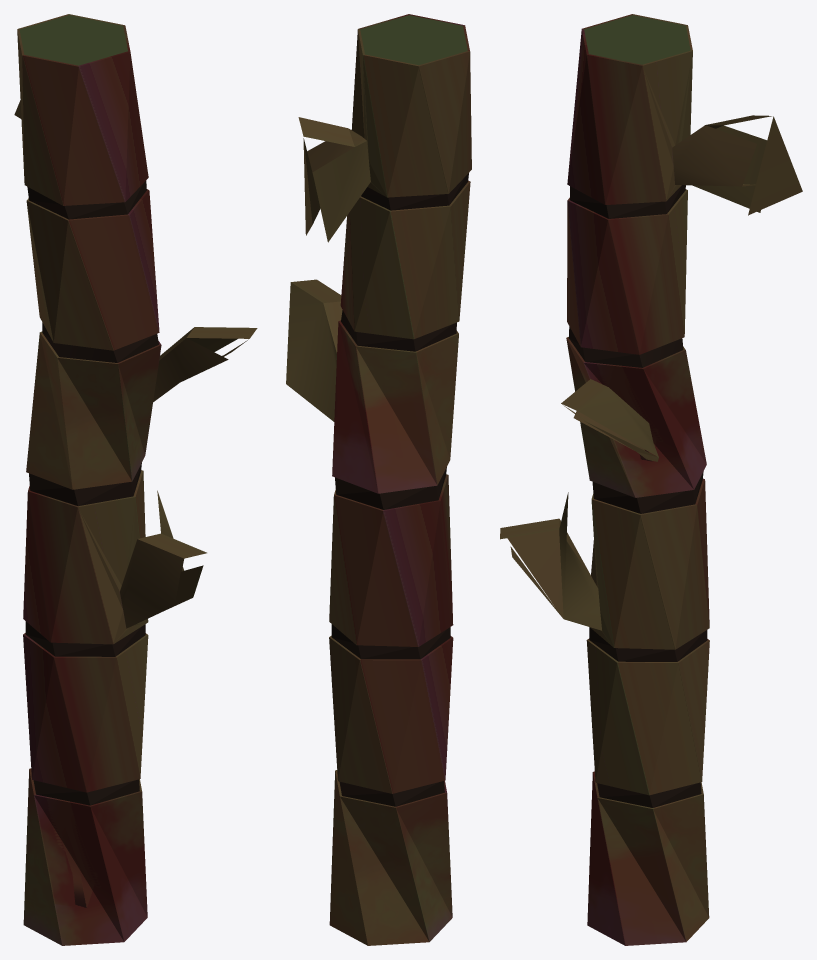
File: mutated-sugarcane.glb
3 renders of one model, left to right at view 1: azimuth 30°, elevation 25°; view 2: azimuth 150°, elevation 25°; view 3: azimuth 270°, elevation 25°, orthographic.
Visible parts, largest first — view 1: Cylinder.001; view 2: Cylinder.001; view 3: Cylinder.001.
Boxes of the visible parts, left/top/right/bottom form: Cylinder.001: left=14, top=14, right=257, bottom=945; Cylinder.001: left=286, top=14, right=471, bottom=945; Cylinder.001: left=500, top=14, right=802, bottom=945.
Size of the model in its own units: 1.49 by 6.07 by 1.91.
3 materials, 1 textured.
